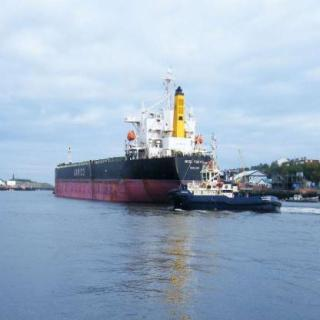Bulk Carrier: (54, 62, 227, 202)
